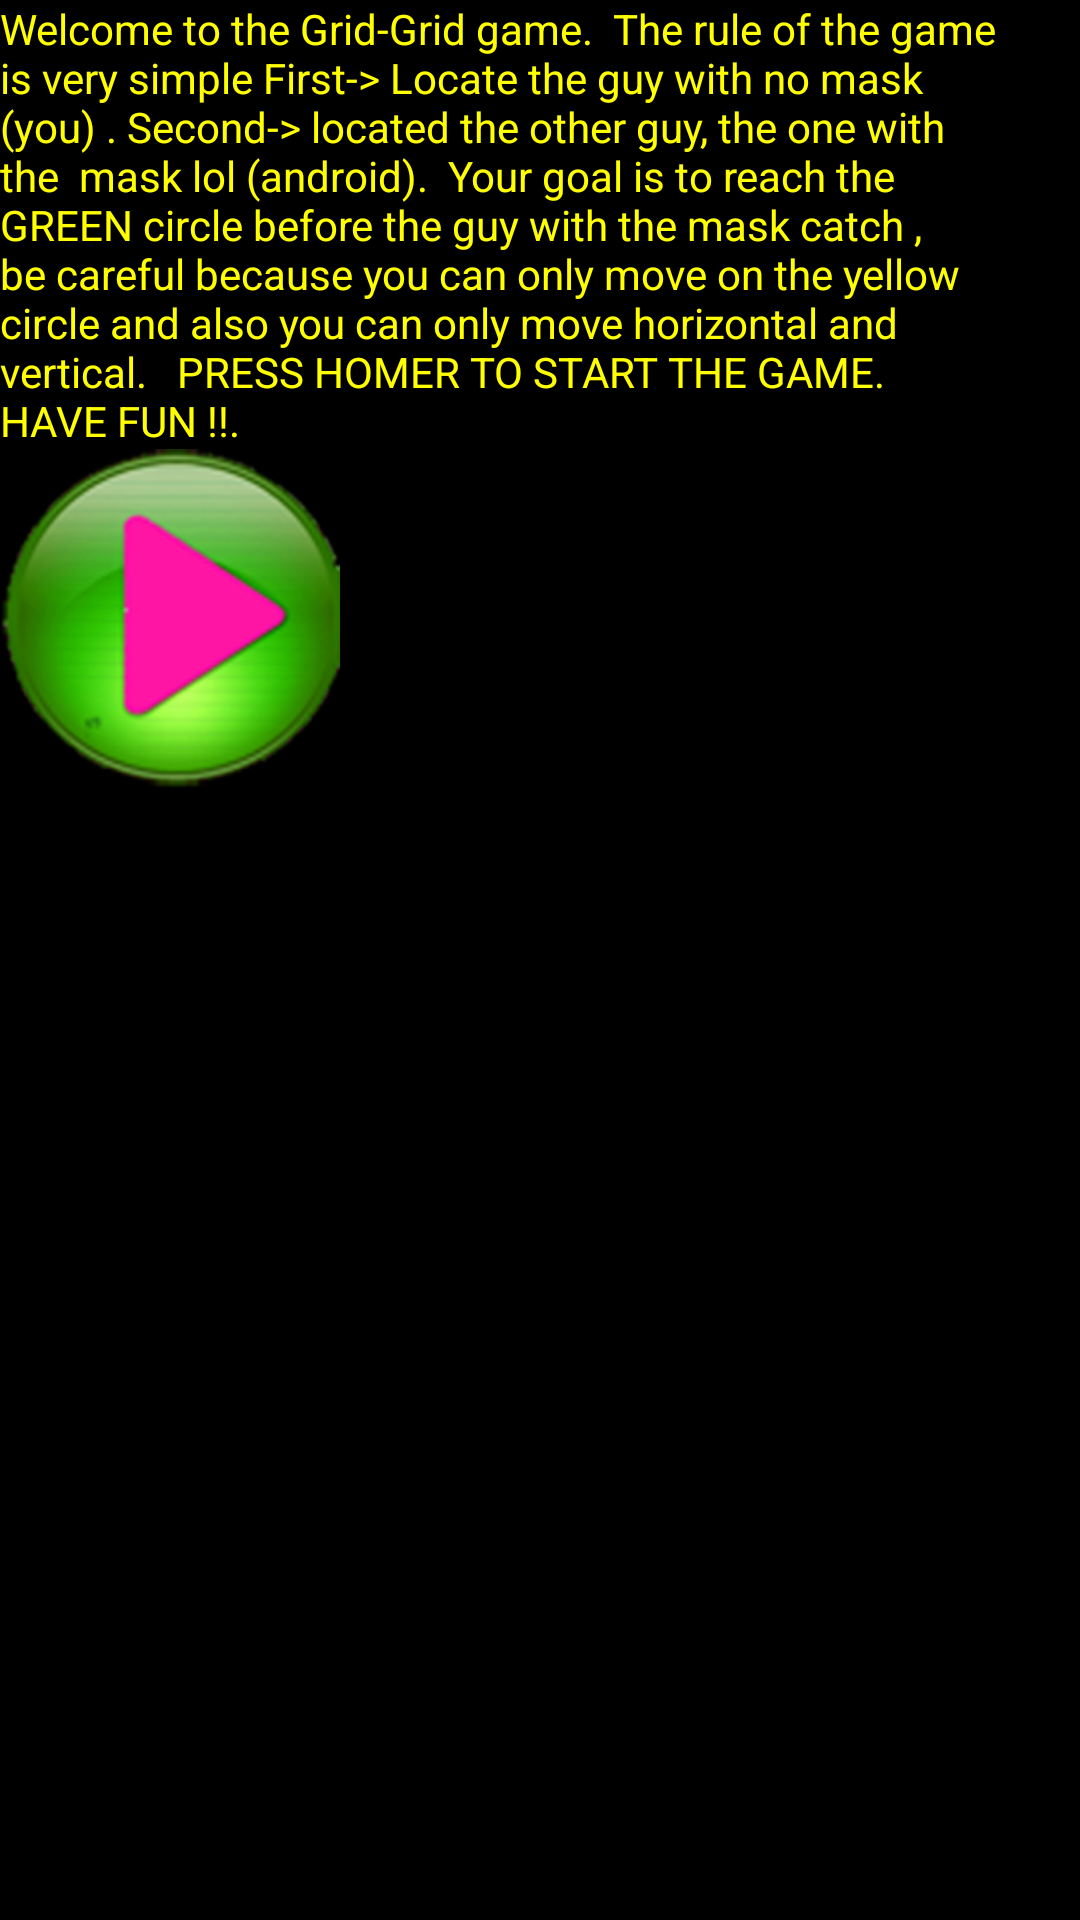

Screen size 1080 × 1920. Icon name, then its box in pixels as [x1=x1, y1=y1, x2=x2, y2=y2]:
playbutton: [x1=2, y1=449, x2=340, y2=786]
